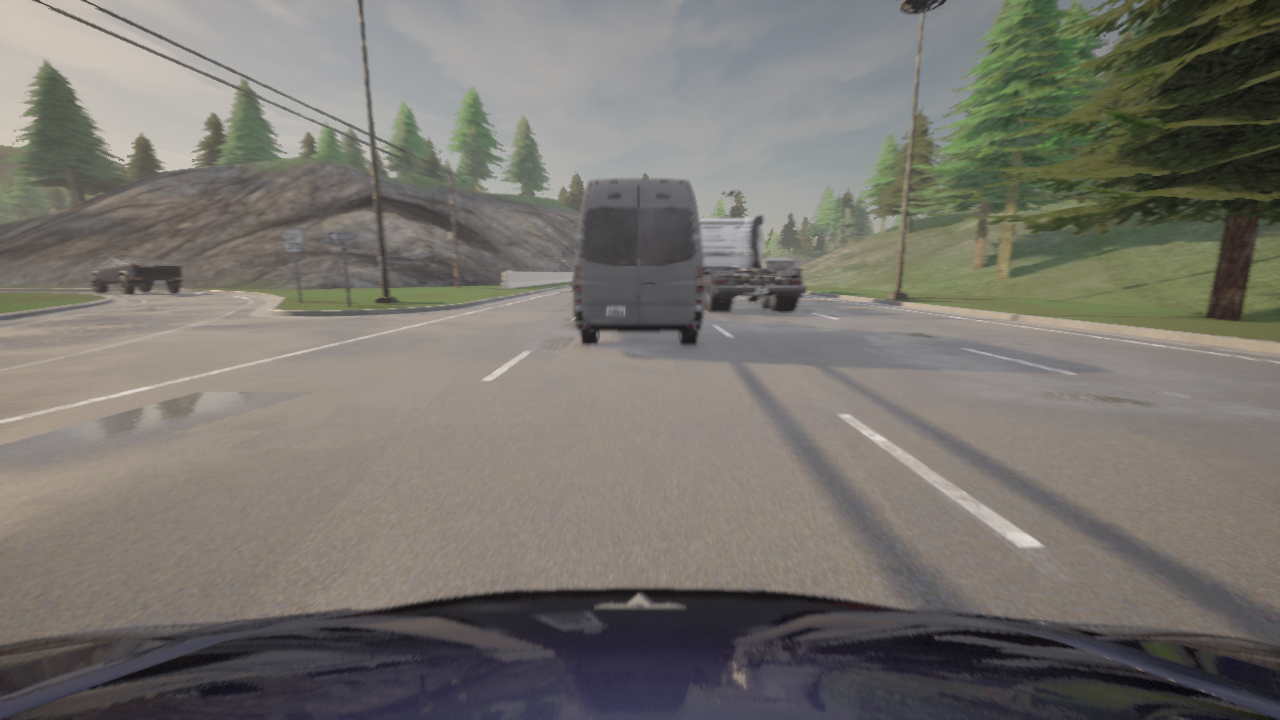cyclist: (0, 588, 1279, 719), (573, 179, 703, 345), (699, 215, 805, 311), (90, 257, 182, 295), (762, 258, 795, 269), (572, 277, 574, 291)
